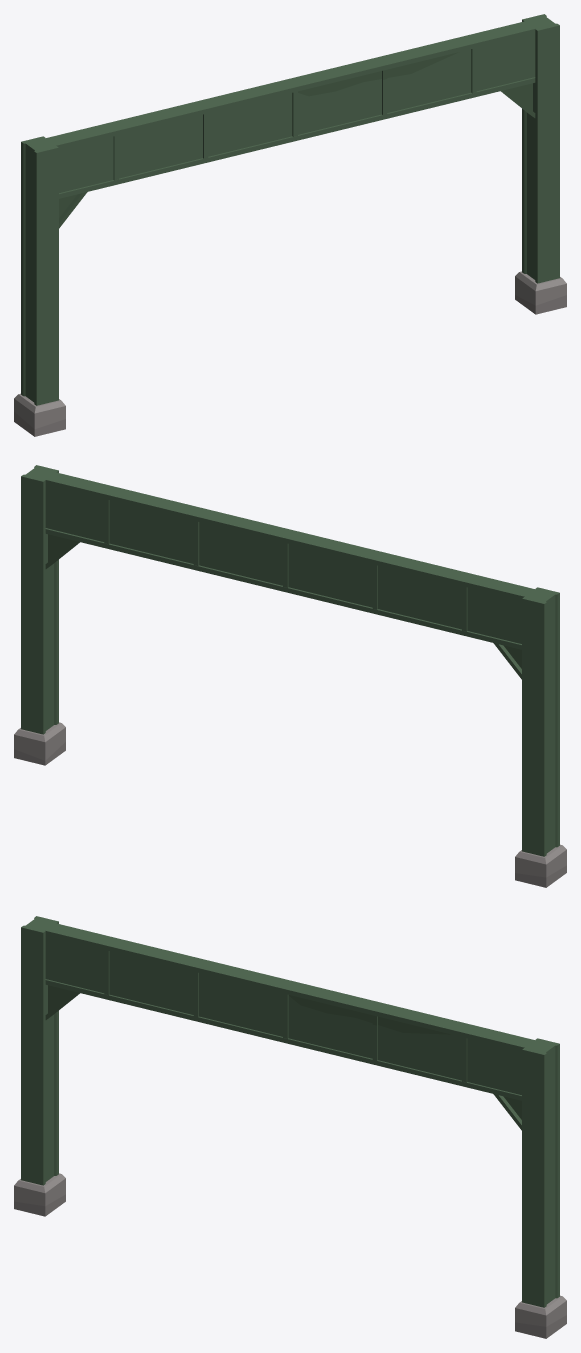
The model's file is SM_Train_Track_Aboveground_Bridge_Steel_Support.fbx.
3 views of the same model, one above another, from view 1: azimuth 30°, elevation 25°; view 2: azimuth 150°, elevation 25°; view 3: azimuth 330°, elevation 25° (orthographic).
Parts seen in each view (by area): view 1: SM_Train_Track_Aboveground_Bridge_Steel_Support; view 2: SM_Train_Track_Aboveground_Bridge_Steel_Support; view 3: SM_Train_Track_Aboveground_Bridge_Steel_Support.
Part boxes in pixels (bbox=[...]): SM_Train_Track_Aboveground_Bridge_Steel_Support: bbox=[14, 14, 566, 436]; SM_Train_Track_Aboveground_Bridge_Steel_Support: bbox=[14, 465, 566, 887]; SM_Train_Track_Aboveground_Bridge_Steel_Support: bbox=[14, 916, 566, 1338].
Bounding box in the file's own units: 1190 × 600 × 80.
